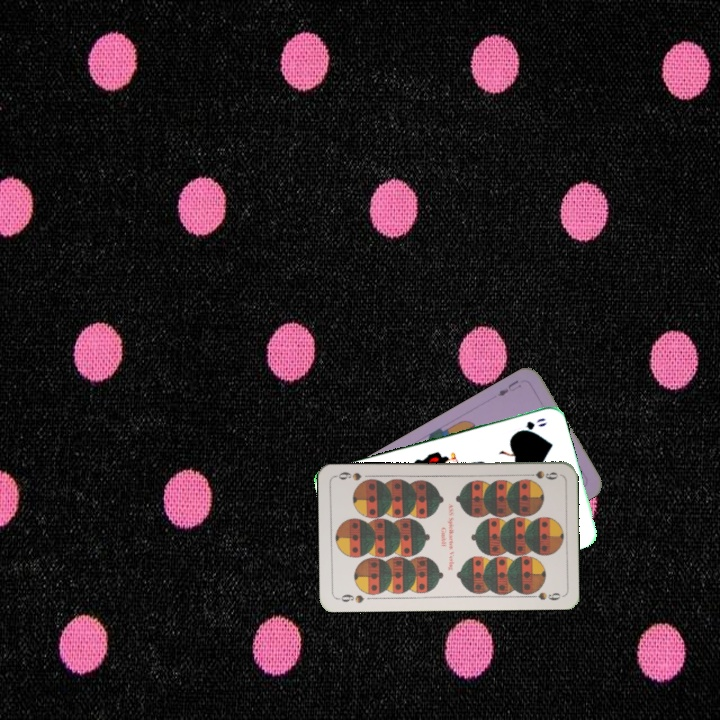EU: (493, 376, 524, 399)
GO: (511, 414, 550, 437)
S9: (521, 467, 560, 482), (334, 590, 367, 605)
